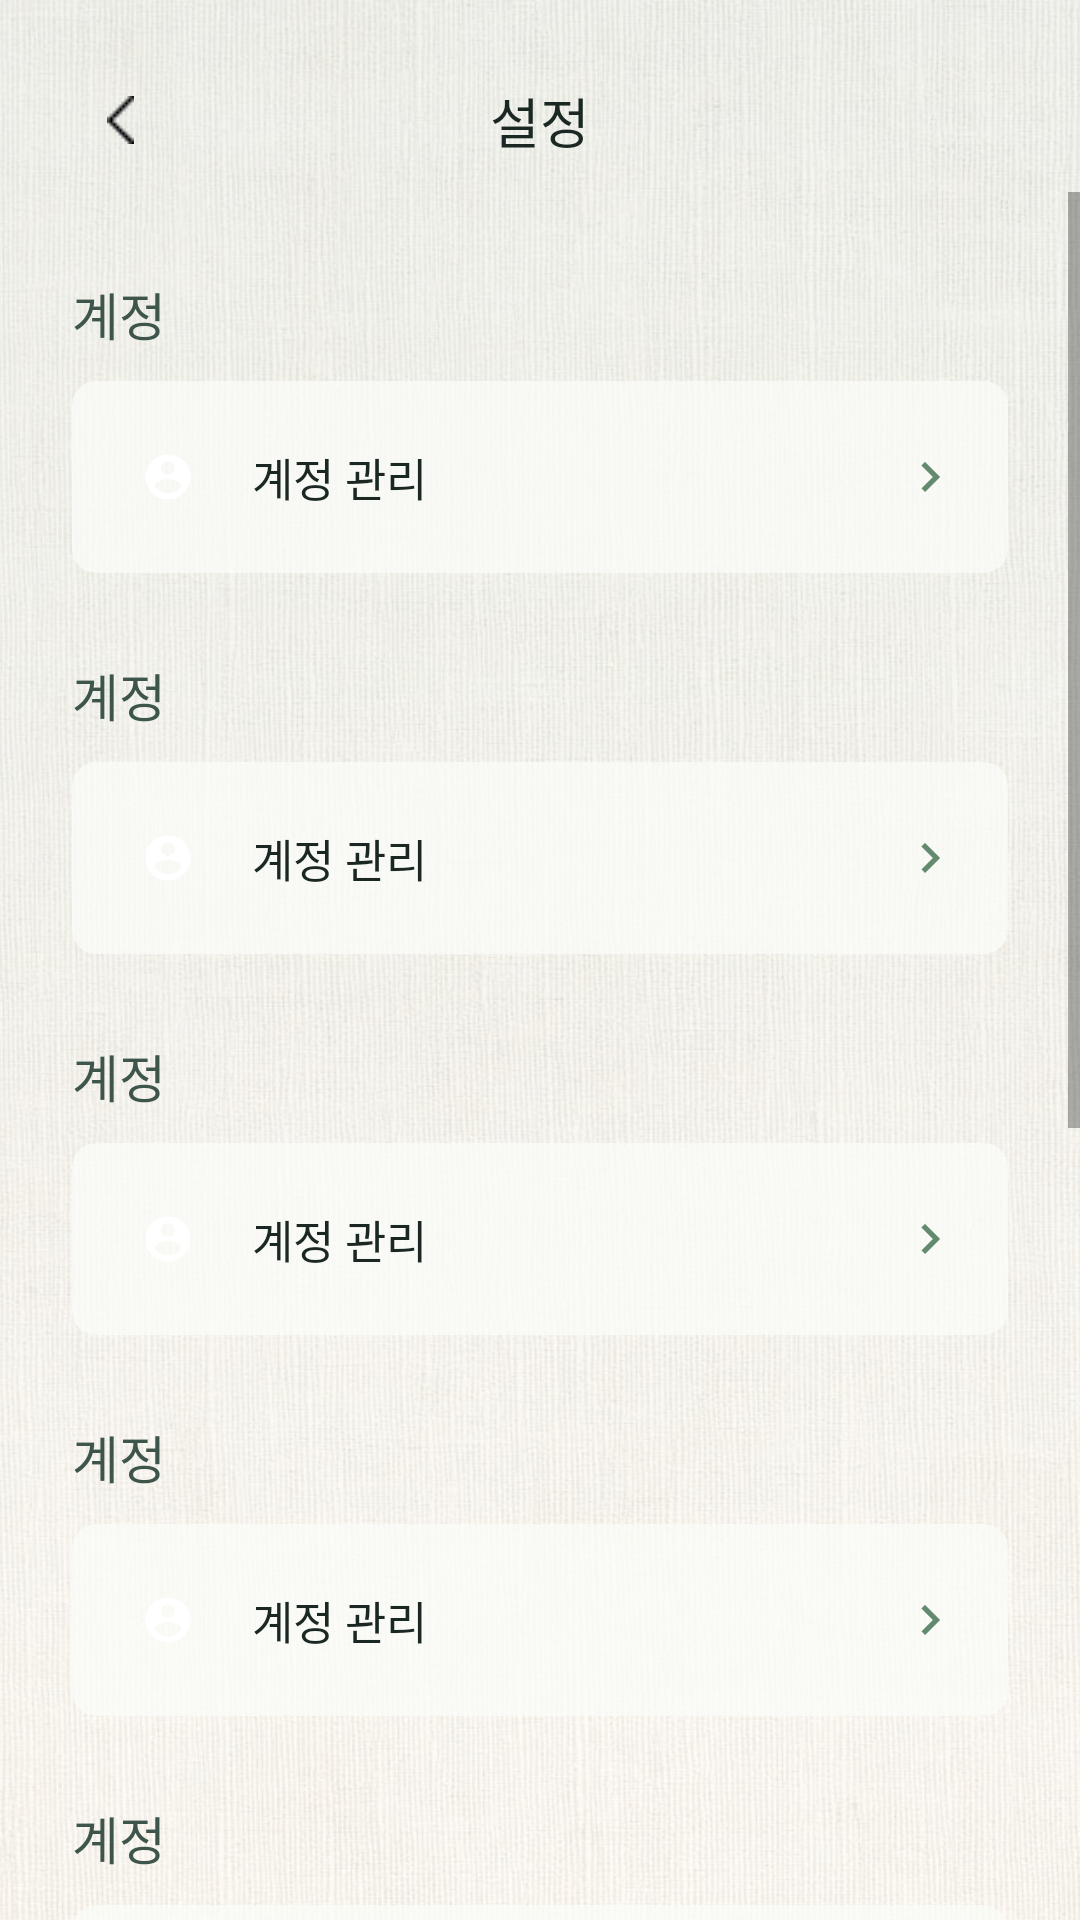

Screen size 1080 × 1920. Icon name, then its box in pixels as (x1, y1, x2, y2):
back: (107, 96, 134, 144)
chevron right: (921, 462, 940, 492), (921, 843, 940, 873), (921, 1224, 940, 1254), (921, 1605, 940, 1635)
